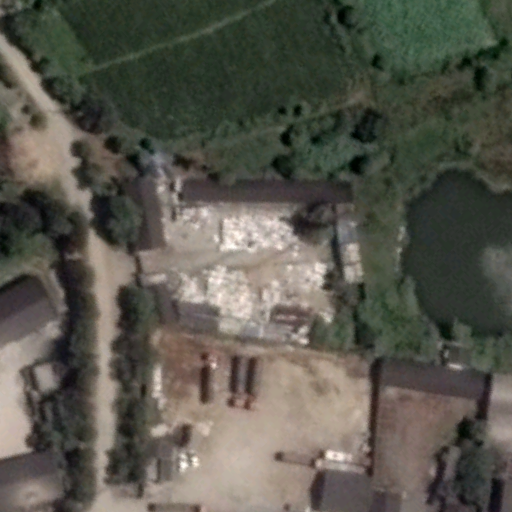msw: (171, 218, 334, 324)
